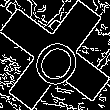O_NE: (23, 22, 87, 88)
